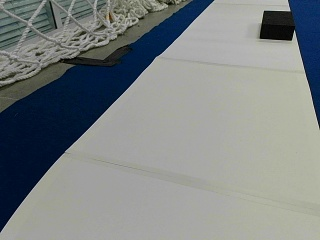block: (260, 11, 294, 40)
